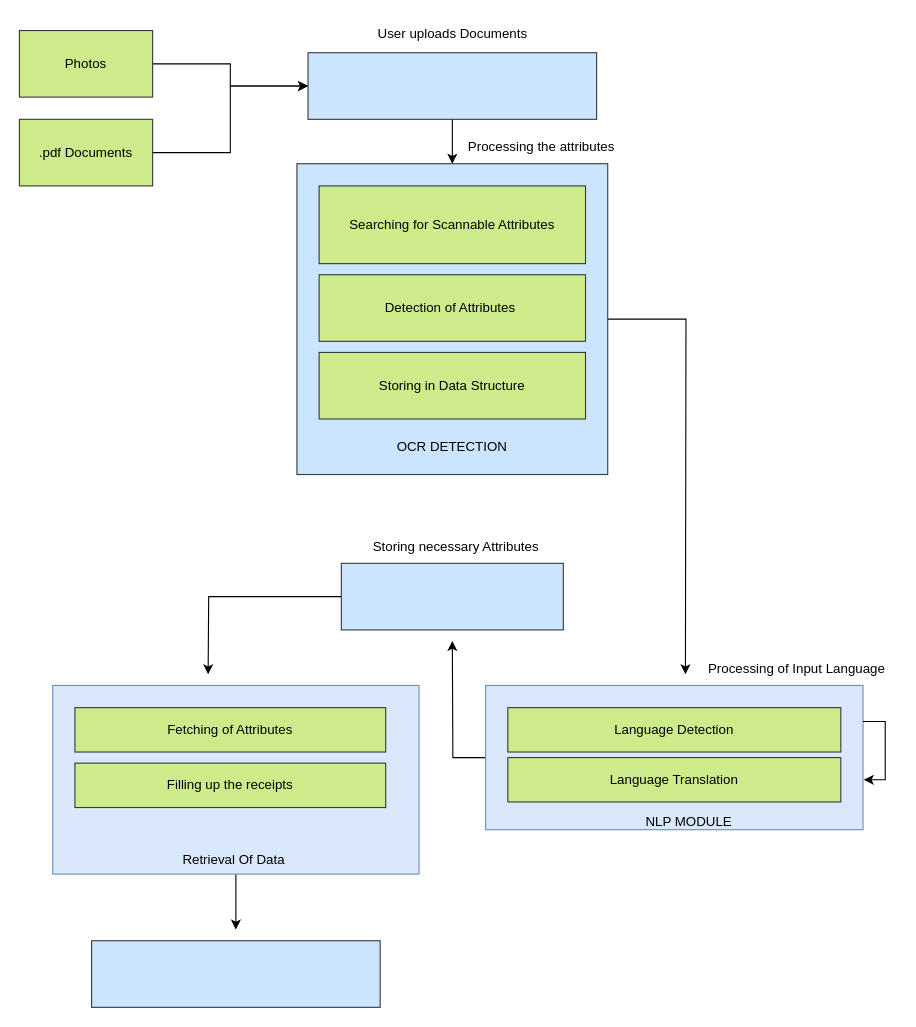
This 916x1027 diagram has some shape labels left out. The shapes that lost their labels are listed below. From the top down, each one's centre as x and y in pixels, then its label:
point 452,85: Input Data
point 451,596: Storing Data in Database
point 235,973: Display
